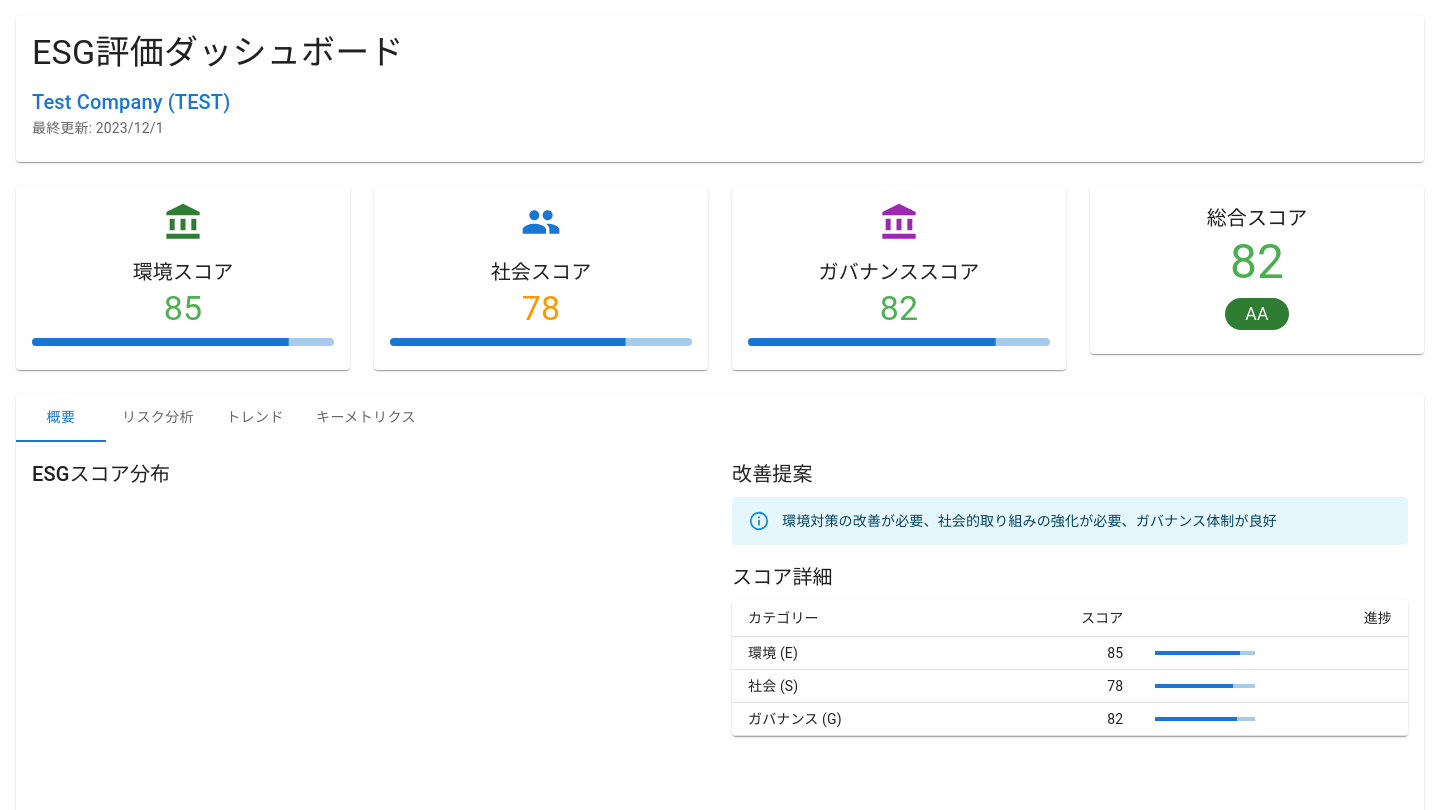
Test case: ESGDashboard › should switch between tabs correctly
This screenshot has width=1440, height=810.
Expected: the heading "ESG評価ダッシュボード" is shown, [32,32,404,72]
Expected: the heading "ESGスコア分布" is shown, [32,462,170,486]
Note: Click on リスク分析 tab
Click the tab "リスク分析" at (158, 418), box [106,394,210,442]
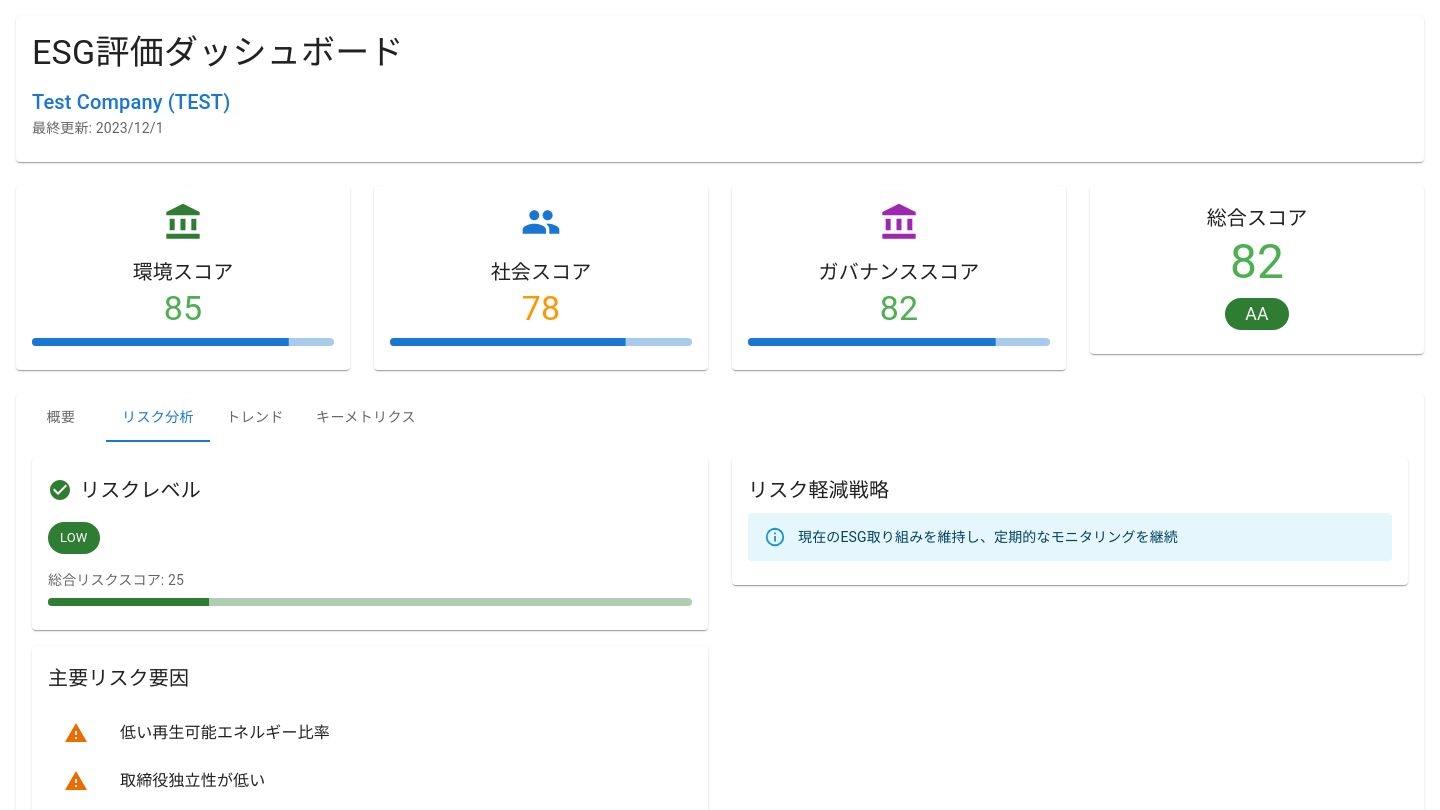
Now the heading "リスクレベル" is shown, box [80,474,201,506]
Now the text "LOW" is shown, box [60,530,88,545]
Now the heading "主要リスク要因" is shown, box [48,666,189,690]
Note: Click on トレンド tab
Click the tab "トレンド" at (255, 418), box [210,394,300,442]
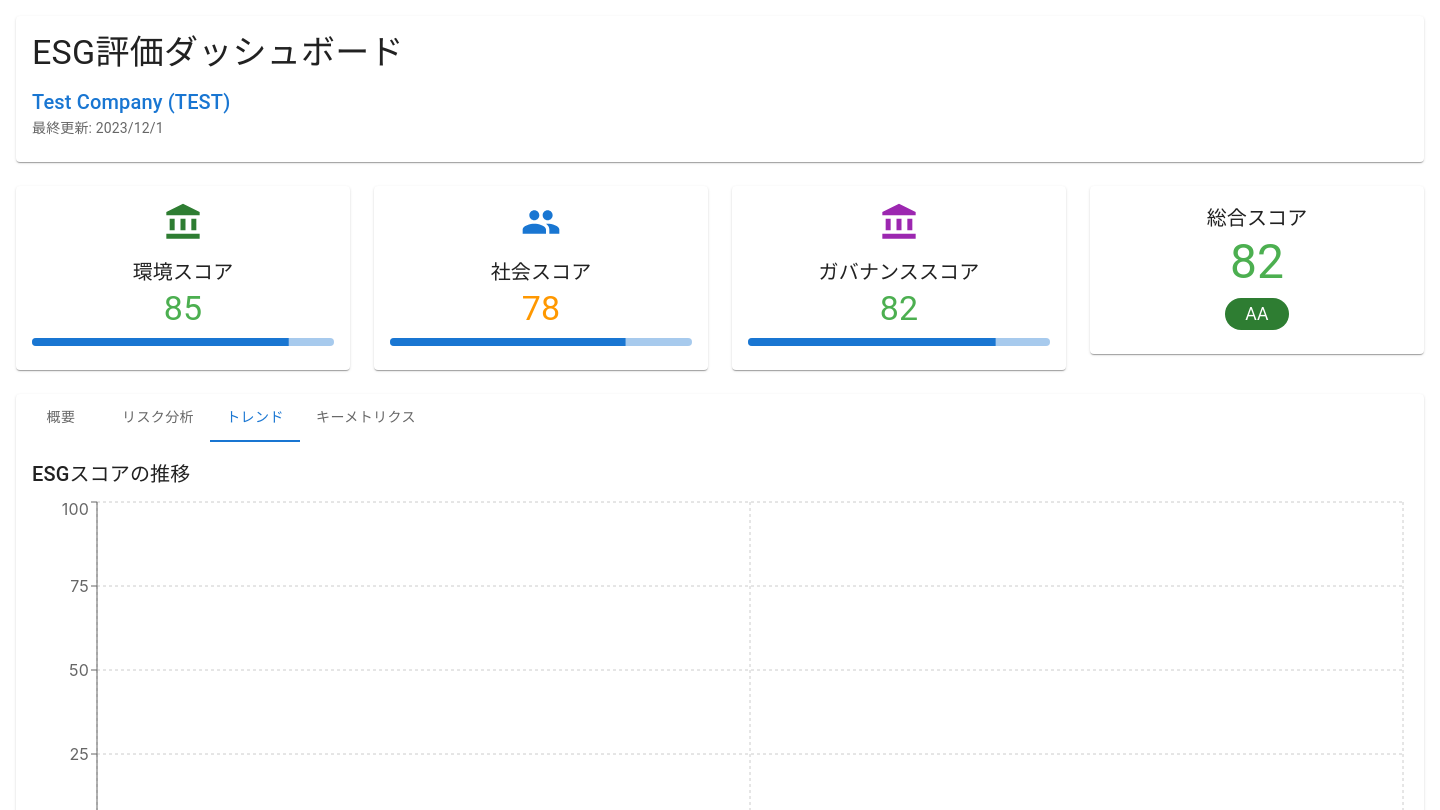
Now the heading "ESGスコアの推移" is shown, box [32,462,190,486]
Note: Click on キーメトリクス tab
Click the tab "キーメトリクス" at (366, 418), box [300,394,432,442]
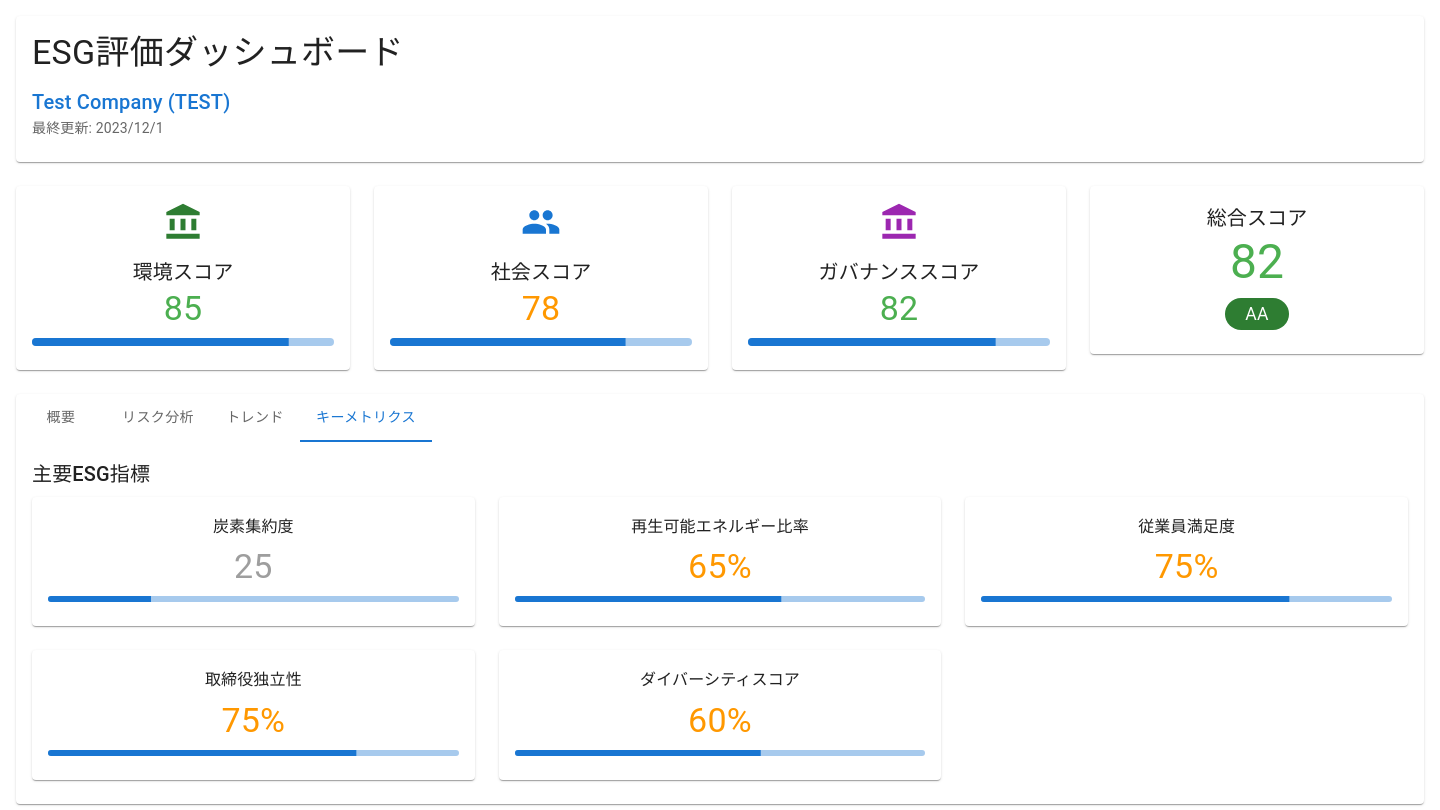
Now the heading "主要ESG指標" is shown, box [32,462,150,486]
Now the heading "炭素集約度" is shown, box [213,517,294,536]
Now the heading "再生可能エネルギー比率" is shown, box [631,517,809,536]
